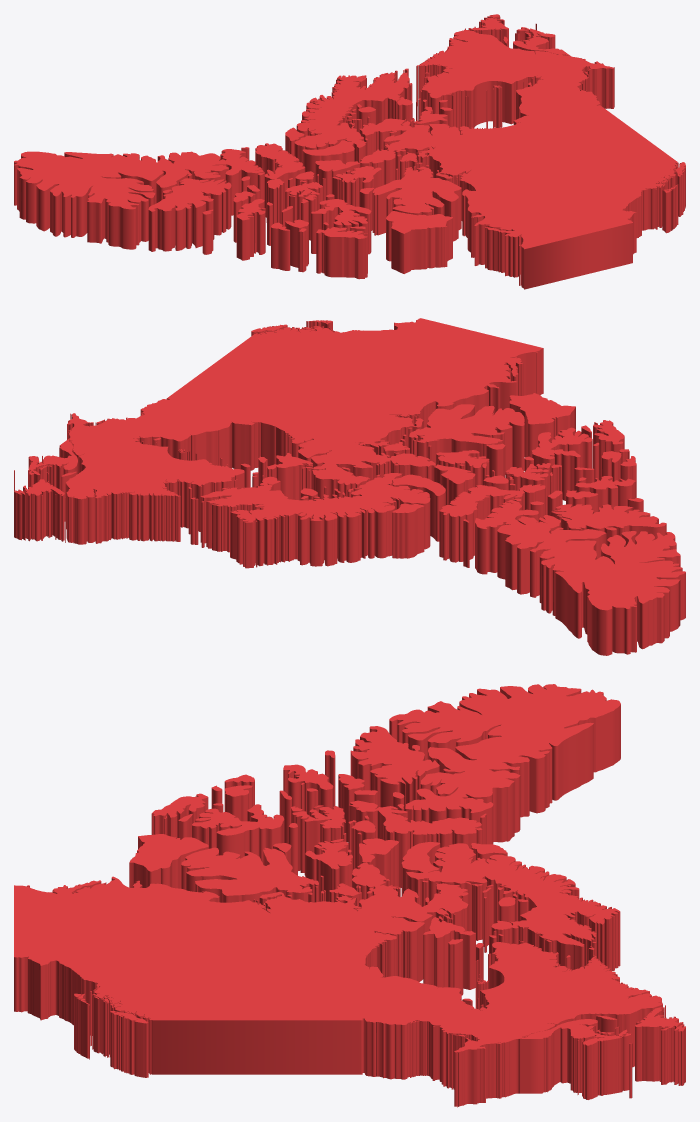
File: canada.glb
3 renders of one model, top to bottom at view 1: azimuth 30°, elevation 25°; view 2: azimuth 150°, elevation 25°; view 3: azimuth 270°, elevation 25°, orthographic. The views are drawn at different scales.
Parts seen in each view (by area): view 1: canada_map; view 2: canada_map; view 3: canada_map.
Boxes of the visible parts, left/top/right/bottom form: canada_map: left=14, top=14, right=685, bottom=289; canada_map: left=14, top=318, right=685, bottom=655; canada_map: left=14, top=684, right=685, bottom=1107.
Bounding box in the file's own units: 5.9 × 0.4061 × 4.54.
